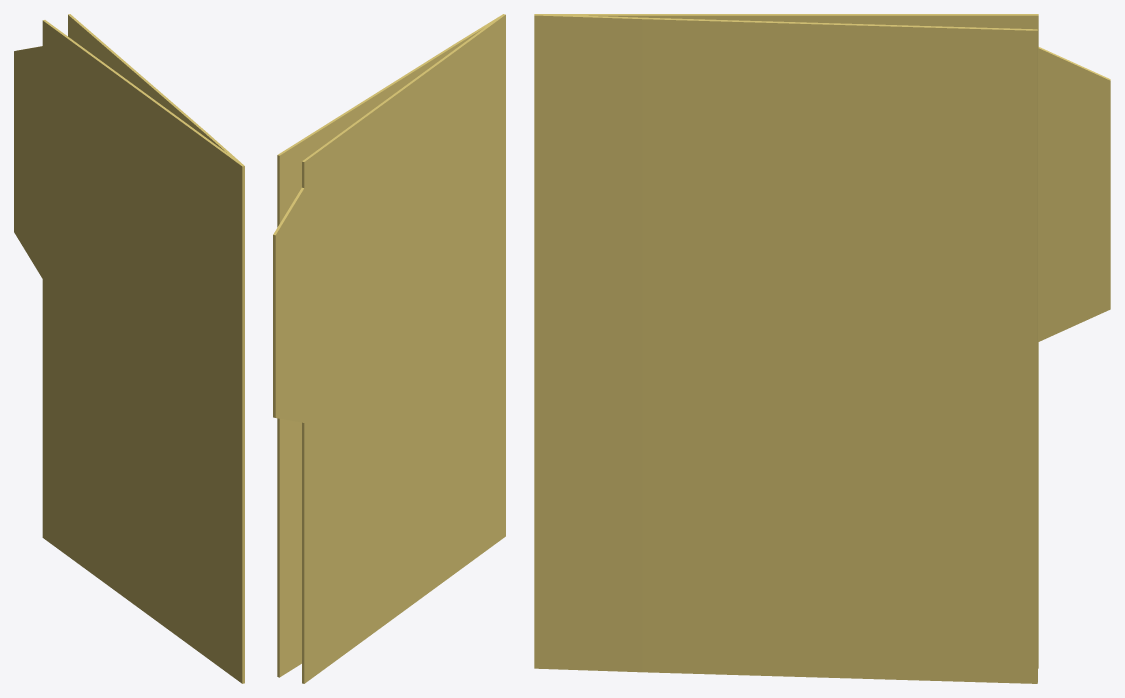
File: carpeta_abierta.glb
The picture shows the model from 3 angles, left to right: view 1: azimuth 30°, elevation 25°; view 2: azimuth 150°, elevation 25°; view 3: azimuth 270°, elevation 25°; orthographic projection. The views are drawn at different scales.
Visible parts, largest first — view 1: base, tapa; view 2: base, tapa; view 3: tapa, tapa.001, base.
Part boxes in pixels (bbox=[...]): base: bbox=[14, 20, 244, 683]; tapa: bbox=[68, 14, 207, 136]; base: bbox=[273, 14, 505, 683]; tapa: bbox=[277, 44, 456, 677]; tapa: bbox=[642, 17, 1037, 683]; tapa.001: bbox=[534, 14, 642, 672]; base: bbox=[534, 14, 1110, 668].
Bounding box in the file's own units: 0.1106 × 2 × 1.6.
